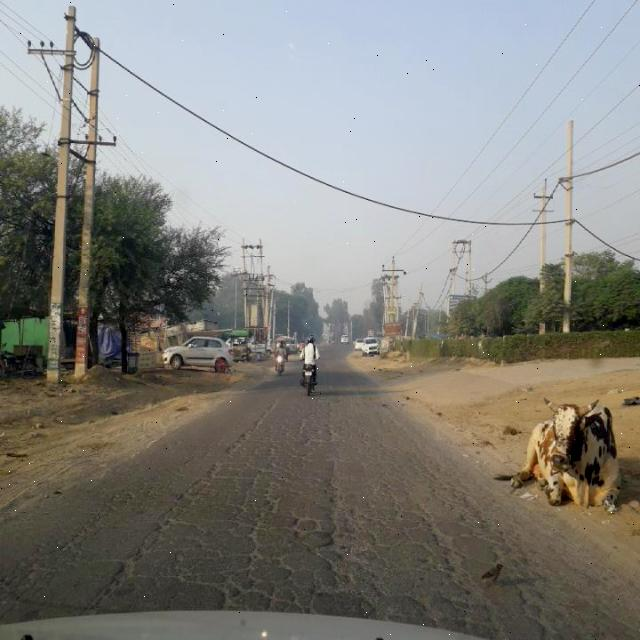D00: (84, 390, 288, 610)
D20: (1, 463, 570, 613)
